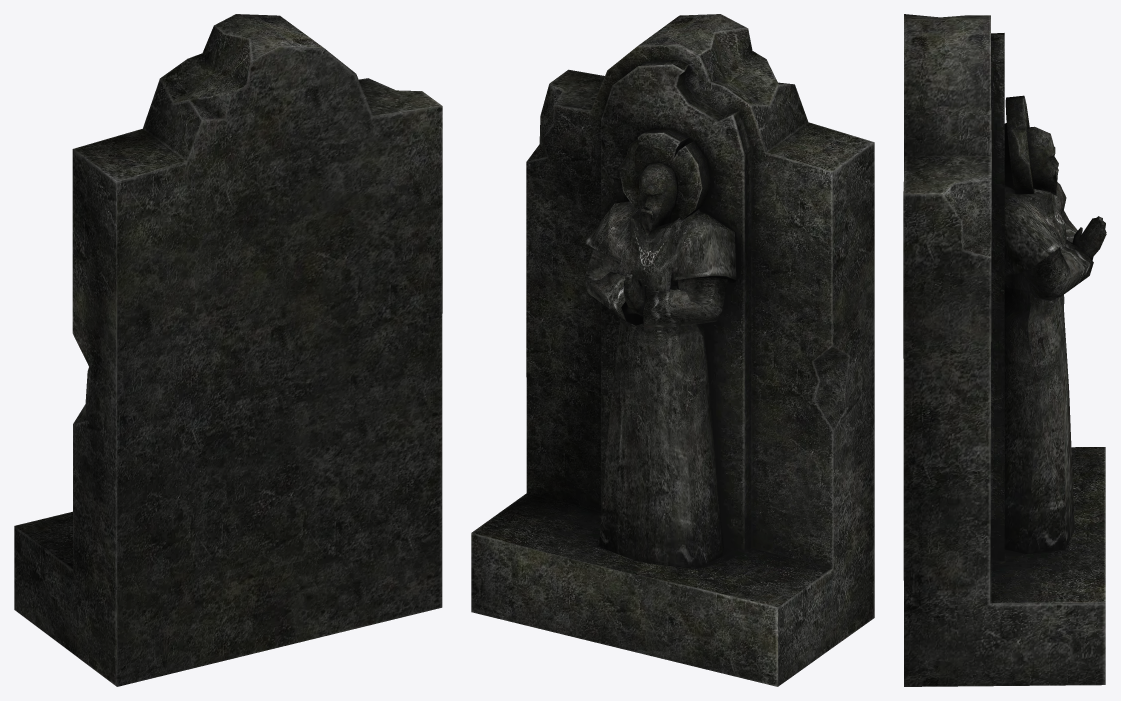
File: ITHC_STATUE_ADANOS.glb
3 renders of one model, left to right at view 1: azimuth 30°, elevation 25°; view 2: azimuth 150°, elevation 25°; view 3: azimuth 270°, elevation 25°, orthographic. The views are drawn at different scales.
Parts seen in each view (by area): view 1: Mesh; view 2: Mesh; view 3: Mesh.
Boxes of the visible parts, x1,y1,x2,y2 form: Mesh: (14,14,442,686); Mesh: (471,14,874,686); Mesh: (903,14,1106,686).
Size of the model in its own units: 1.87 by 3.31 by 1.03.
2 materials, 2 textured.
